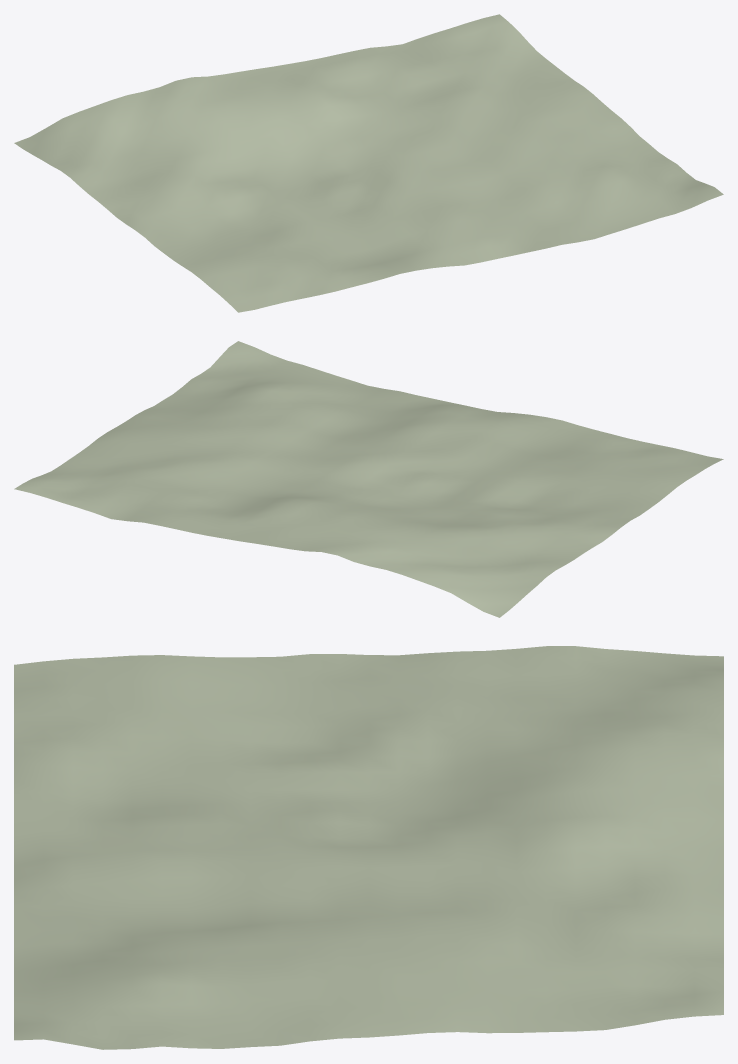
3 views of the same model, one above another, from view 1: azimuth 30°, elevation 25°; view 2: azimuth 150°, elevation 25°; view 3: azimuth 270°, elevation 25° (orthographic). The views are drawn at different scales.
Parts seen in each view (by area): view 1: world-ground/60-96; view 2: world-ground/60-96; view 3: world-ground/60-96.
Part boxes in pixels (box(x1,y1,x2,y2)): world-ground/60-96: box(14, 14, 723, 312); world-ground/60-96: box(14, 341, 723, 617); world-ground/60-96: box(14, 646, 723, 1049).
Size of the model in its own units: 37.5 by 3.08 by 30.
